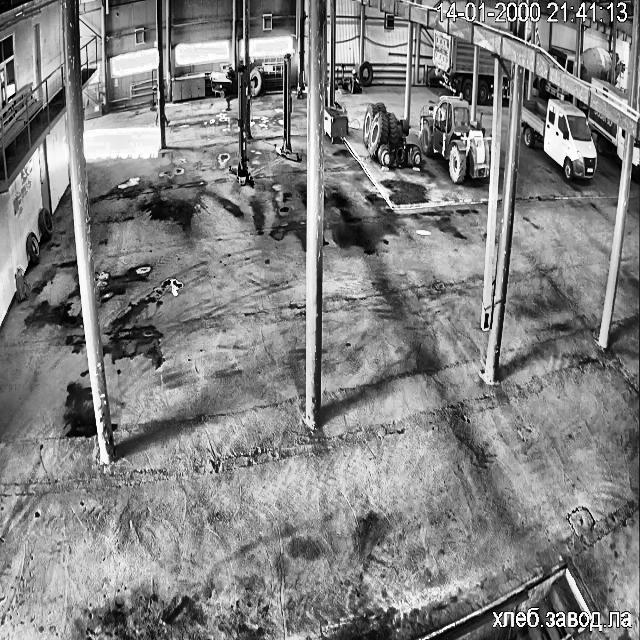car lift: (275, 54, 300, 161), (230, 66, 252, 186)
fire extinguisher: (16, 268, 24, 300)
tractor: (420, 96, 489, 182), (362, 102, 420, 166)
truck: (522, 100, 596, 180), (432, 28, 473, 100), (588, 108, 624, 157), (580, 46, 620, 82), (477, 49, 494, 102), (592, 78, 628, 102), (536, 77, 572, 98), (548, 45, 574, 73), (632, 140, 640, 177), (500, 78, 508, 97), (504, 60, 510, 74)
